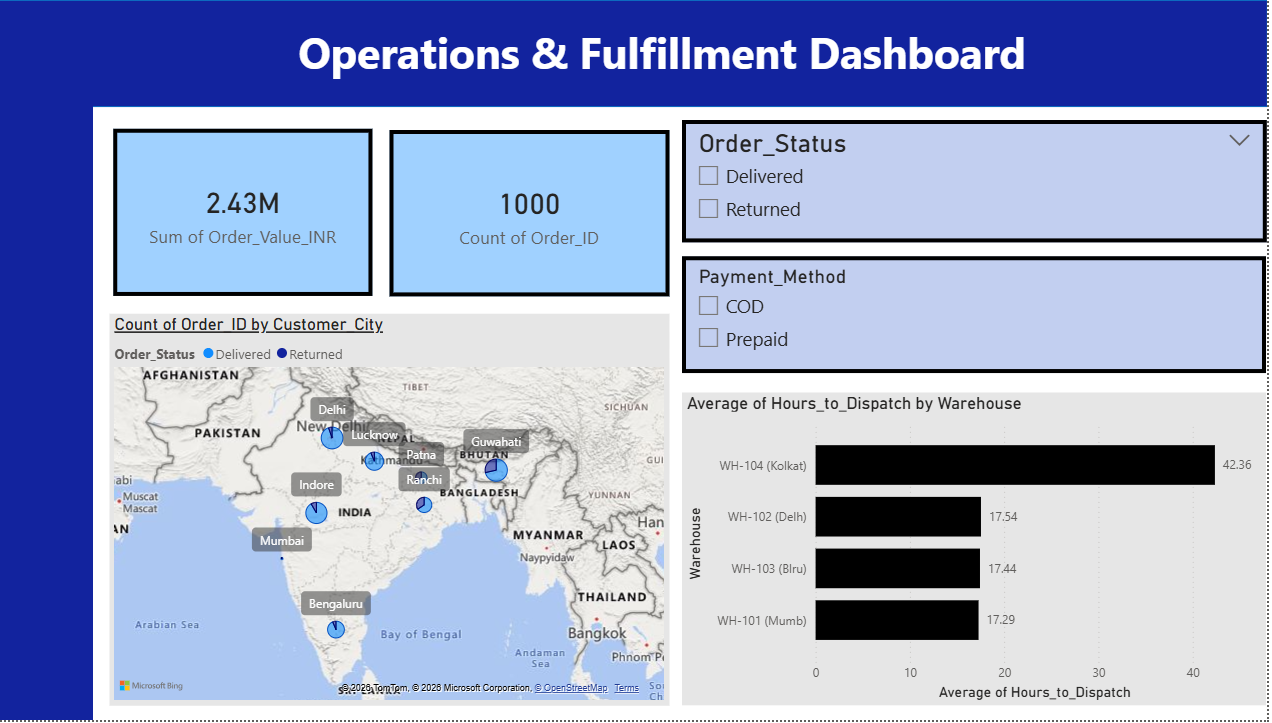

This screenshot's page, from the dashboard's own definition file:
{"tool":"powerbi","page":{"name":"Page 1","canvas":[1280,720],"ordinal":0},"visuals":[{"type":"shape","box":[9.6,0,1270.7,107],"z":0},{"type":"shape","box":[9.6,65.9,96.1,654.5],"z":1000},{"type":"card","fields":{"Values":["Sum(da1 clean_ecommerce_fulfillment_data.Order_Value_INR)"]},"box":[126.2,129,259.3,167.4],"z":2000},{"type":"card","fields":{"Values":["CountNonNull(da1 clean_ecommerce_fulfillment_data.Order_ID)"]},"box":[402.4,129.5,279.8,166.8],"z":3000},{"type":"slicer","fields":{"Values":["da1 clean_ecommerce_fulfillment_data.Order_Status"]},"box":[695.2,119.8,585.1,122.5],"z":4000},{"type":"map","title":"Count of Order_ID by Customer_City ","fields":{"Category":["da1 clean_ecommerce_fulfillment_data.Customer_City"],"Series":["da1 clean_ecommerce_fulfillment_data.Order_Status"],"Size":["CountNonNull(da1 clean_ecommerce_fulfillment_data.Order_ID)"]},"box":[122.7,314.2,559.5,391.4],"z":5001},{"type":"slicer","fields":{"Values":["da1 clean_ecommerce_fulfillment_data.Payment_Method"]},"box":[694.6,256.3,584.3,117.1],"z":5003},{"type":"clusteredBarChart","fields":{"Category":["da1 clean_ecommerce_fulfillment_data.Warehouse"],"Y":["Avg(da1 clean_ecommerce_fulfillment_data.Hours_to_Dispatch)"]},"box":[694.6,392.8,584.3,312.8],"z":5004},{"type":"textbox","box":[305.9,17.9,753.8,75.8],"z":5005}]}

Visuals, with their boxes in screenshot pixels (x1, y1, x2, y2), scaled from the page's 1280x720 canvas onto the 1272x723 screenshot:
shape: (10, 0, 1271, 107)
shape: (10, 66, 105, 722)
card - Sum(da1 clean_ecommerce_fulfillment_data.Order_Value_INR): (125, 130, 383, 298)
card - CountNonNull(da1 clean_ecommerce_fulfillment_data.Order_ID): (400, 130, 678, 298)
slicer - da1 clean_ecommerce_fulfillment_data.Order_Status: (691, 120, 1271, 243)
"Count of Order_ID by Customer_City " map: (122, 316, 678, 709)
slicer - da1 clean_ecommerce_fulfillment_data.Payment_Method: (690, 257, 1271, 375)
clusteredBarChart - da1 clean_ecommerce_fulfillment_data.Warehouse x Avg(da1 clean_ecommerce_fulfillment_data.Hours_to_Dispatch): (690, 394, 1271, 709)
textbox: (304, 18, 1053, 94)
